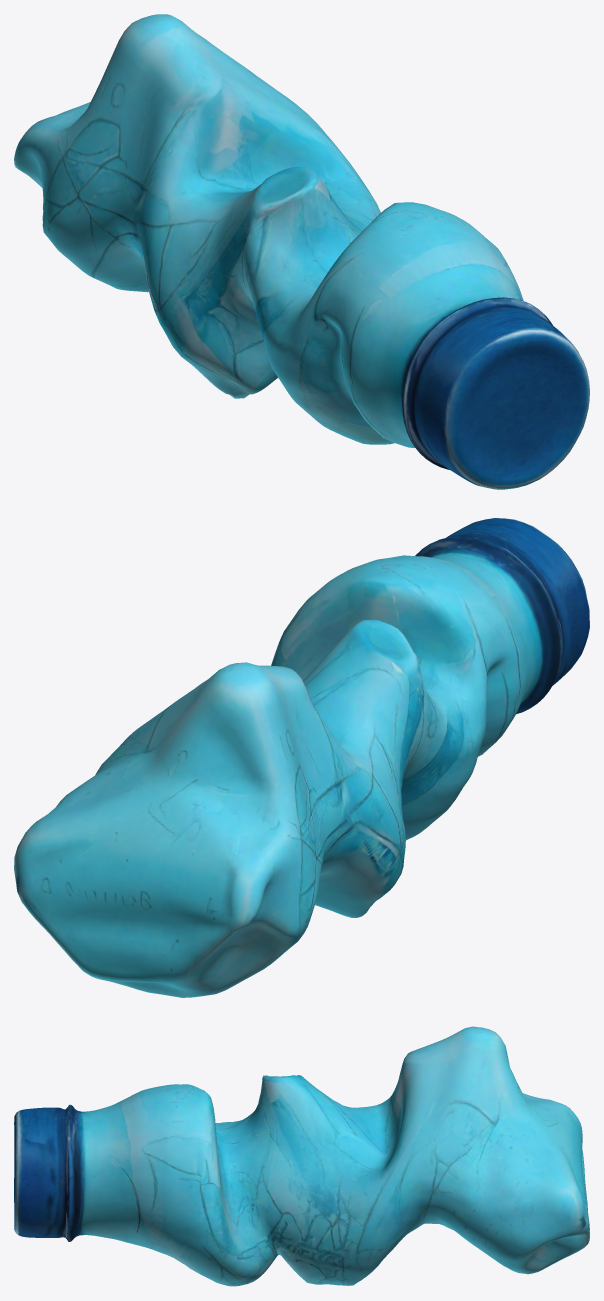
Rendered from Blue_Recycle_Dream_1224173700_texture.fbx.
3 views of the same model, one above another, from view 1: azimuth 30°, elevation 25°; view 2: azimuth 150°, elevation 25°; view 3: azimuth 270°, elevation 25° (orthographic). The views are drawn at different scales.
Visible parts, largest first — view 1: Mesh1_Mesh1.013; view 2: Mesh1_Mesh1.013; view 3: Mesh1_Mesh1.013.
Part boxes in pixels (x1,y1,x2,y2): Mesh1_Mesh1.013: (14,14,589,489); Mesh1_Mesh1.013: (14,518,589,997); Mesh1_Mesh1.013: (14,1026,589,1286).
Size of the model in its own units: 73.58 by 88.7 by 200.
1 material, 1 textured.
